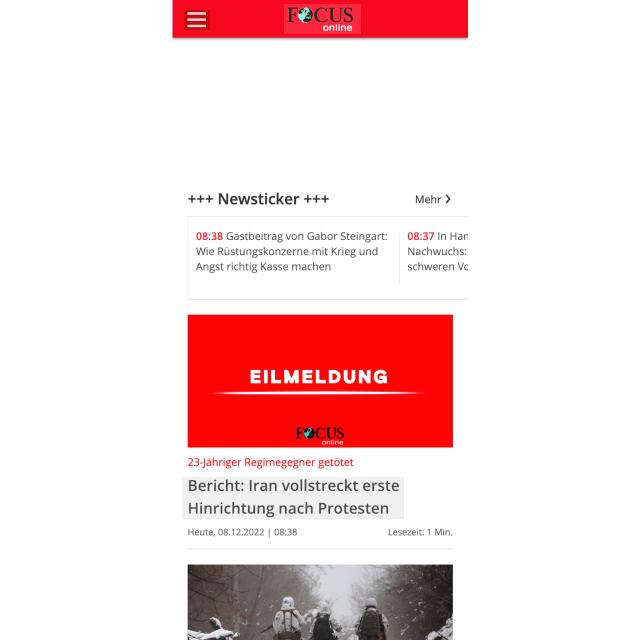ImageView: (188, 315, 454, 448)
QR code: (186, 216, 476, 299)
bag: (173, 0, 468, 39)
breadcrumbs: (182, 477, 404, 519)
date picker: (284, 4, 361, 34)
decoration: (184, 10, 210, 30)
